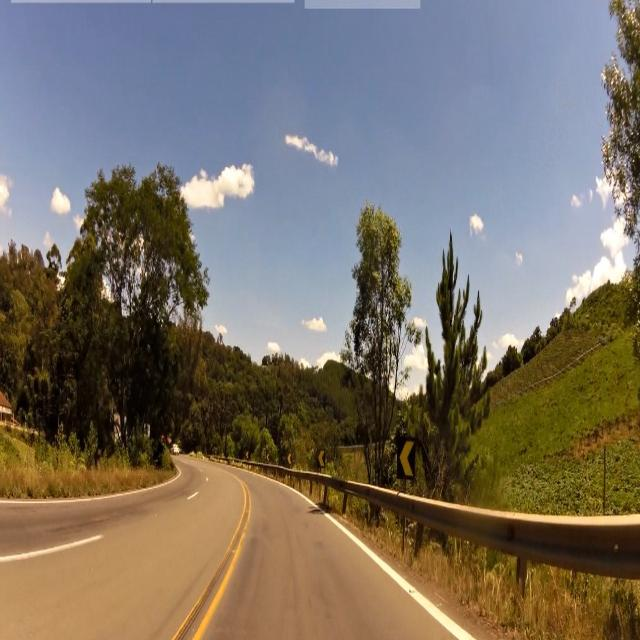Del: (398, 435, 416, 480), (318, 446, 326, 468), (287, 451, 293, 467)
